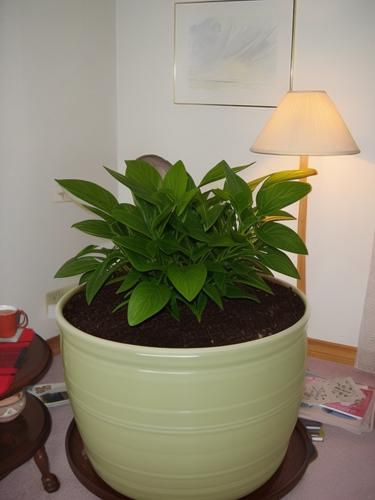person: (76, 153, 309, 499)
person/foot: (258, 426, 318, 472), (242, 455, 286, 498)
person/hand: (140, 235, 173, 264), (187, 239, 209, 271)
person/head: (130, 155, 174, 219)
pottedplant: (53, 160, 307, 500)
